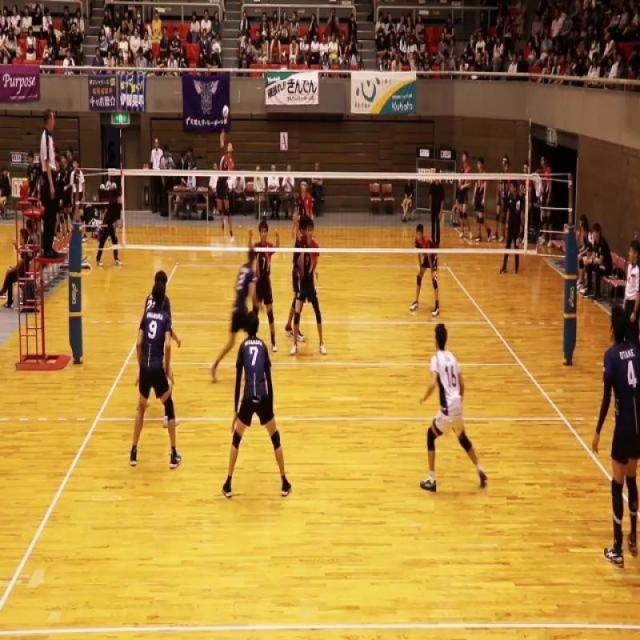volleyball: (223, 103, 229, 122)
